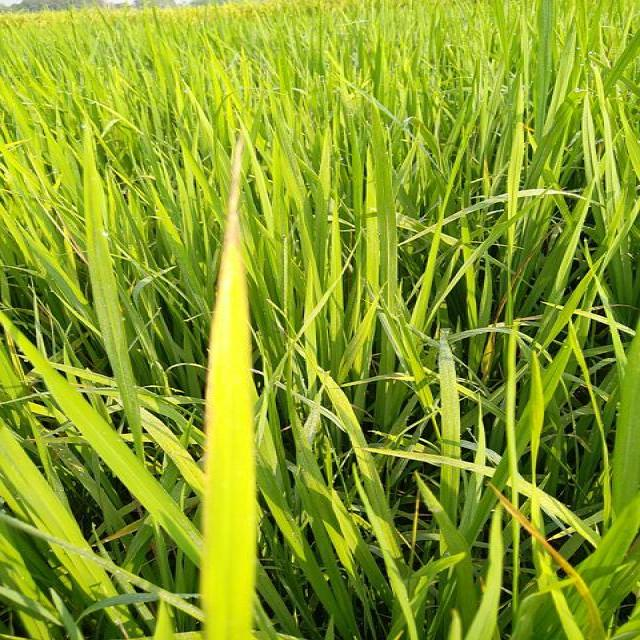Leaf Streak: (205, 141, 253, 482)
